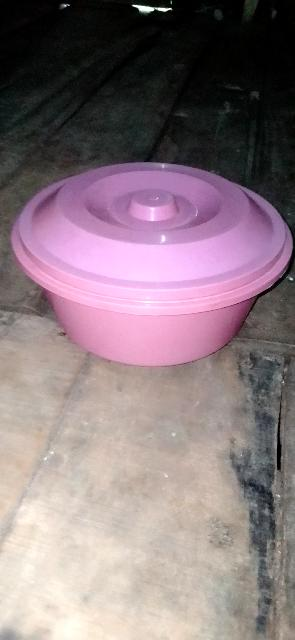hardplastic: (7, 150, 295, 375)
